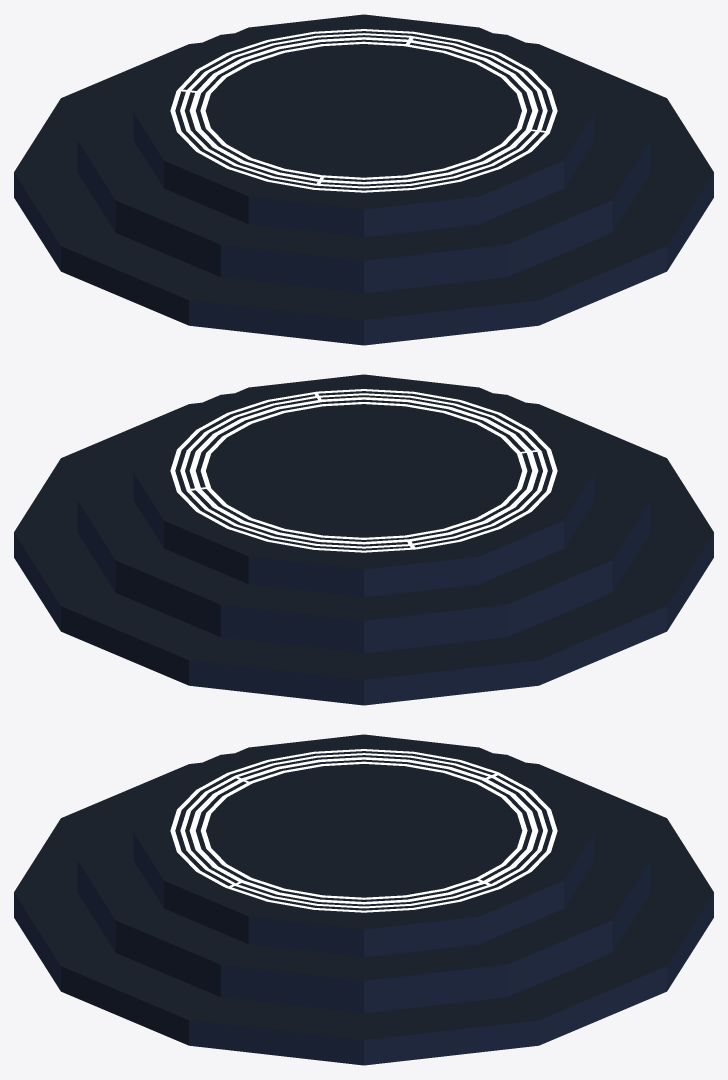
File: HTC_Base.glb
The picture shows the model from 3 angles, top to bottom: view 1: azimuth 30°, elevation 25°; view 2: azimuth 150°, elevation 25°; view 3: azimuth 270°, elevation 25°; orthographic projection.
Parts seen in each view (by area): view 1: HTC_Base; view 2: HTC_Base; view 3: HTC_Base.
Boxes of the visible parts, x1,y1,x2,y2 form: HTC_Base: (14,14,713,345); HTC_Base: (14,374,713,705); HTC_Base: (14,734,713,1065).
Size of what is drawn, in the model's own units: 4.83 by 0.661 by 4.83.
Materials: 3 (1 with a texture image).
